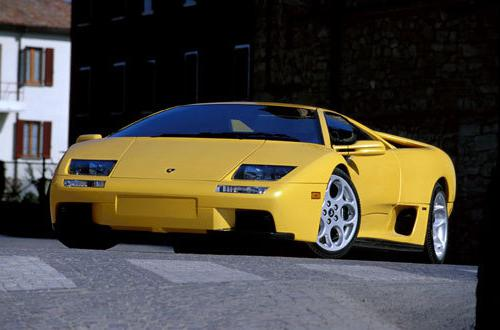Car: (25, 99, 475, 283)
